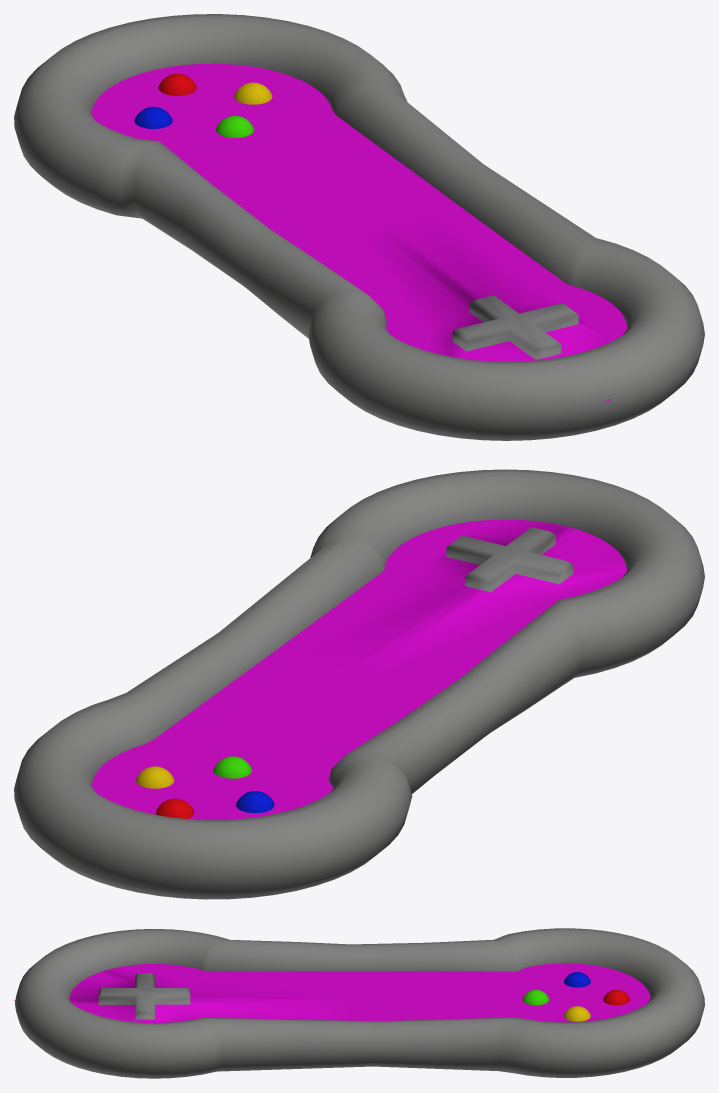
Rendered from mandoV2.fbx.
3 renders of one model, top to bottom at view 1: azimuth 30°, elevation 25°; view 2: azimuth 150°, elevation 25°; view 3: azimuth 270°, elevation 25°, orthographic. The views are drawn at different scales.
Visible parts, largest first — view 1: Torus; view 2: Torus; view 3: Torus.
Boxes of the visible parts, left/top/right/bottom form: Torus: left=14, top=14, right=704, bottom=440; Torus: left=14, top=469, right=704, bottom=899; Torus: left=14, top=928, right=704, bottom=1078.
Size of the model in its own units: 251 by 50 by 620.
